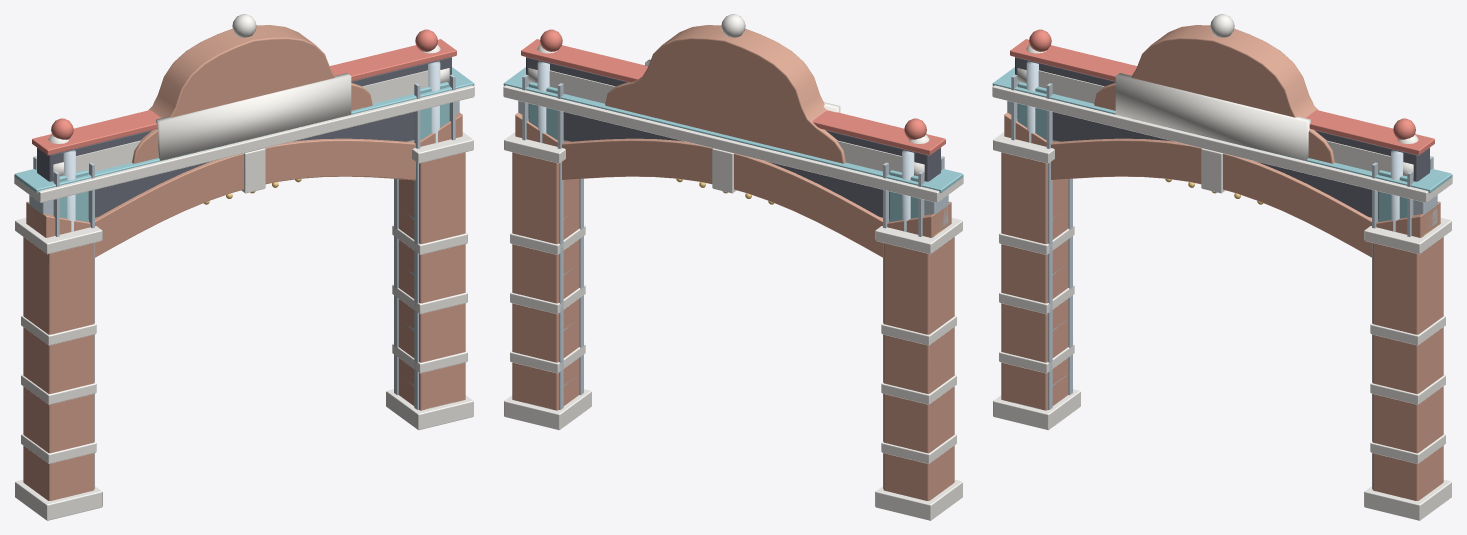
File: sq-gate.glb
3 views of the same model, side by side, from view 1: azimuth 30°, elevation 25°; view 2: azimuth 150°, elevation 25°; view 3: azimuth 330°, elevation 25° (orthographic).
Parts seen in each view (by area): view 1: dadao, ximen, xinyi; view 2: dadao, xinyi, ximen; view 3: dadao, xinyi, ximen.
Boxes of the visible parts, box(x1,y1,x2,y2) form: dadao: box(14, 14, 474, 520); ximen: box(32, 29, 456, 409); xinyi: box(14, 67, 474, 488); dadao: box(503, 14, 963, 520); xinyi: box(503, 67, 963, 488); ximen: box(521, 29, 945, 409); dadao: box(992, 14, 1452, 520); xinyi: box(992, 67, 1452, 488); ximen: box(1010, 29, 1434, 409).
Size of the model in its own units: 12.4 by 11.96 by 1.6.
